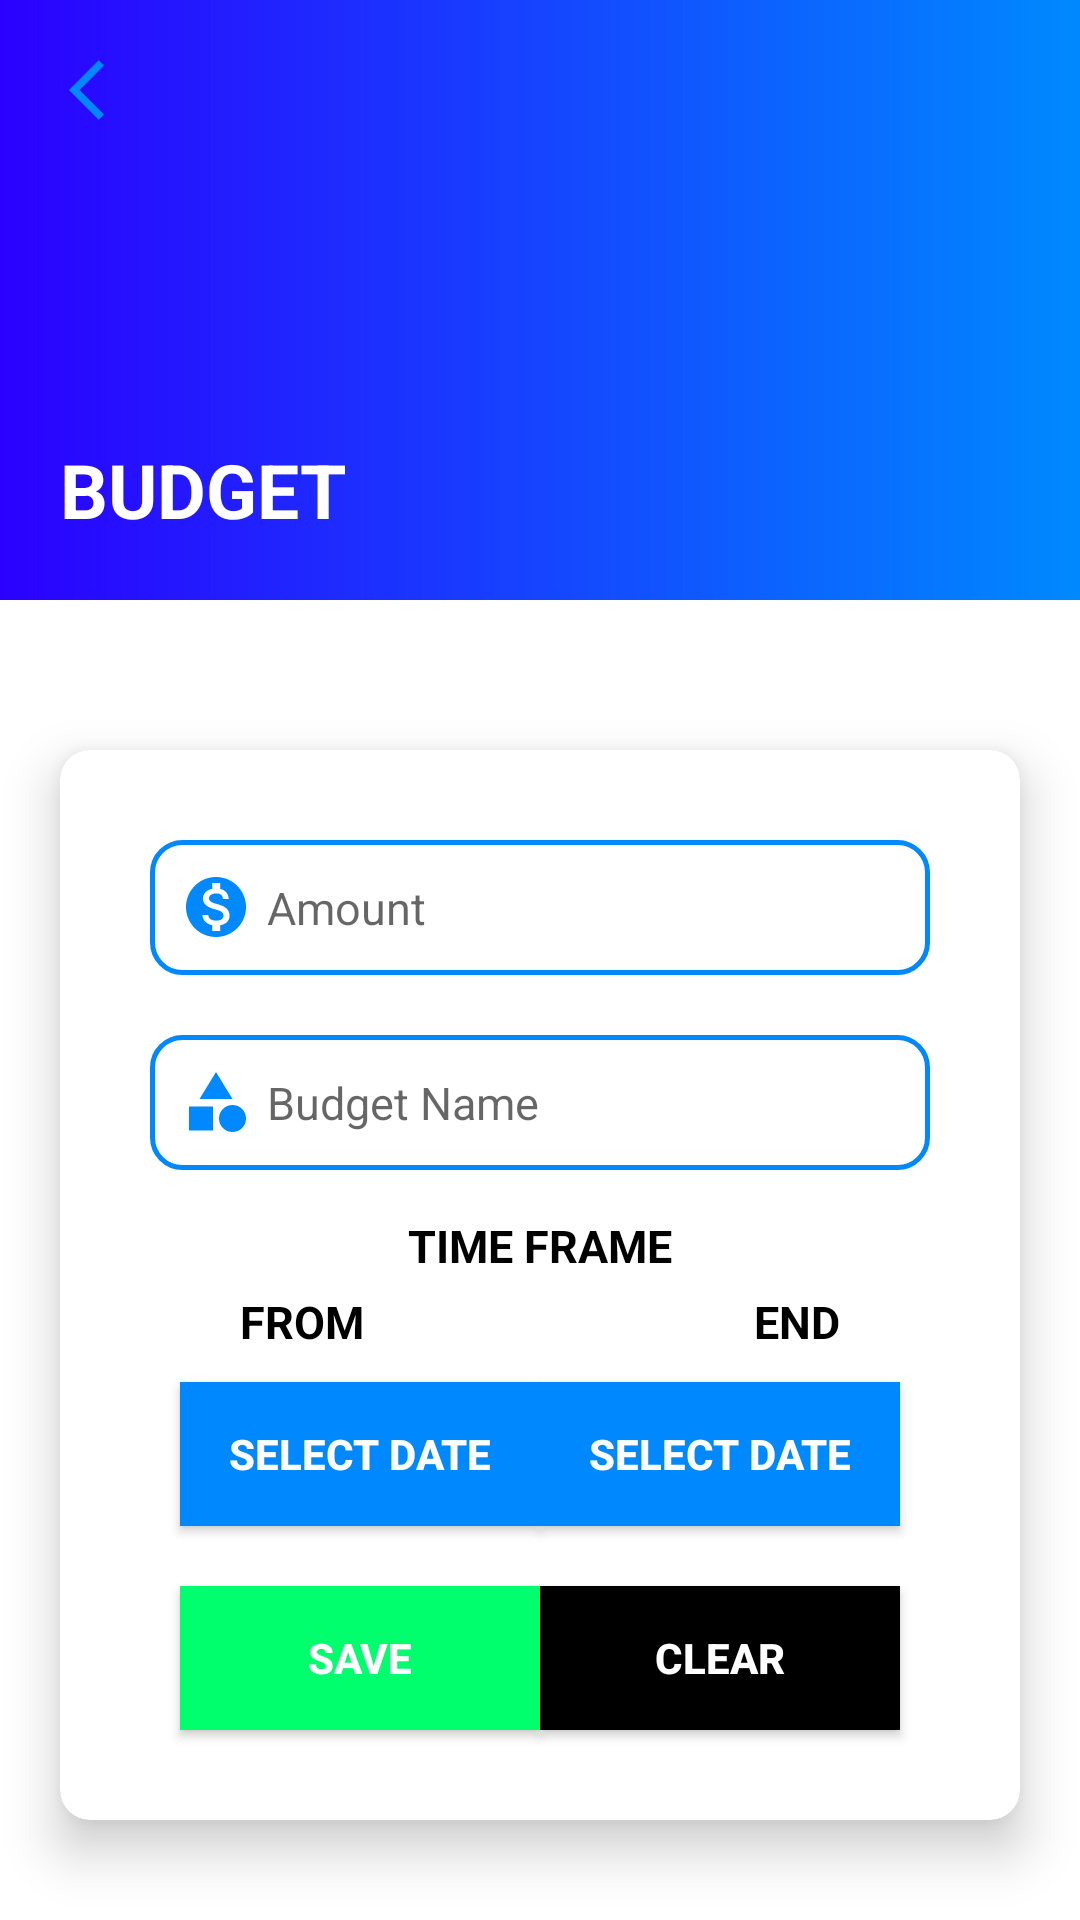

Point at icon controls on the screen. Image size 1080px x 1920px, points as [x,y].
back: [86,90]
